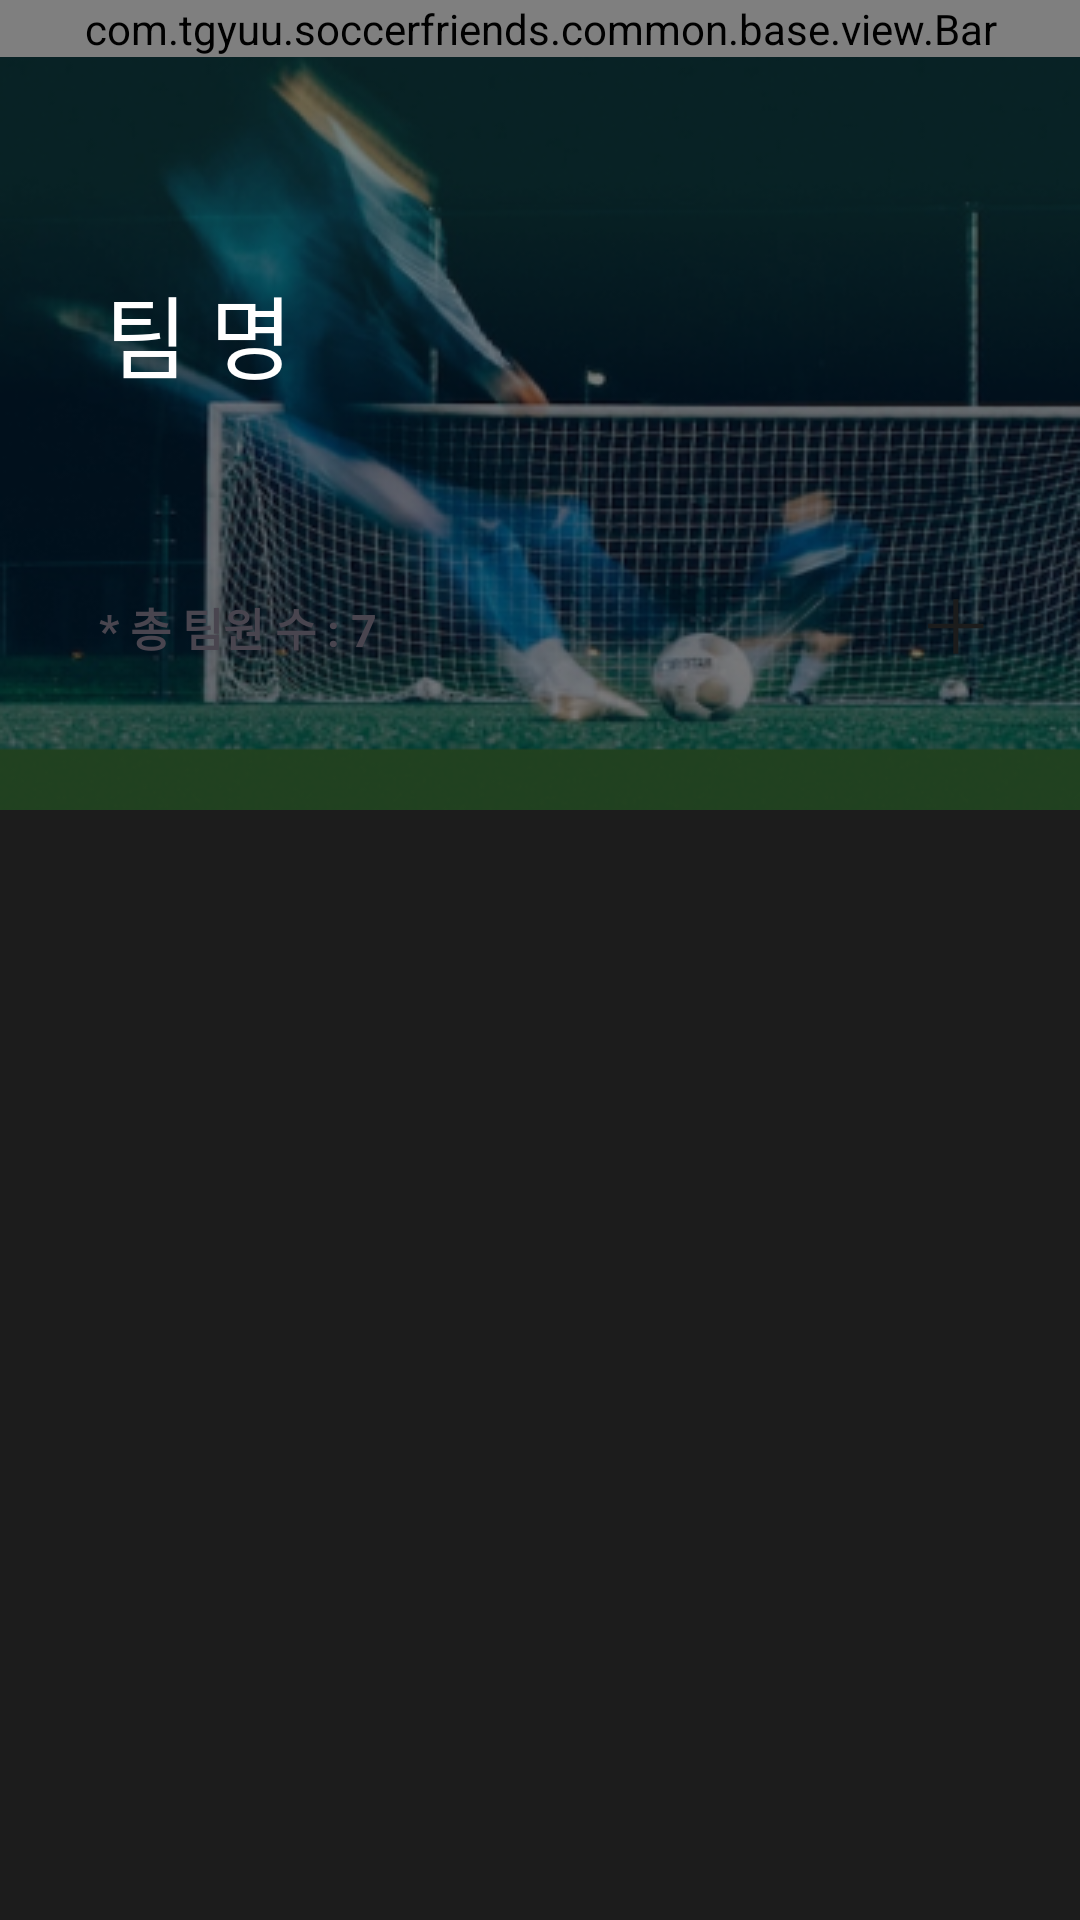

Where to tap for icons on this 1080px×1920px app screen, as point (x, y):
선수 추가: point (956, 627)
